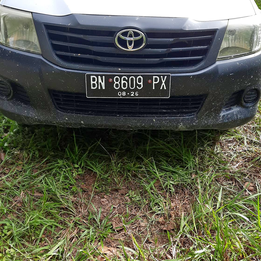plate: (85, 73, 172, 98)
